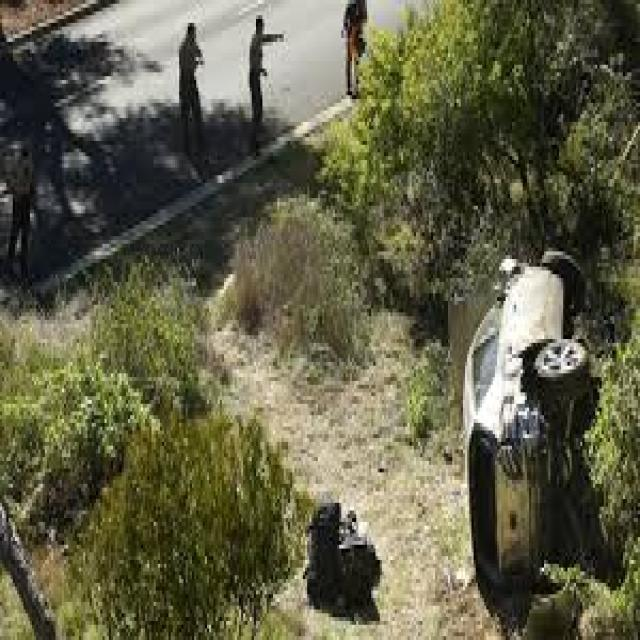accident: (441, 239, 596, 604)
